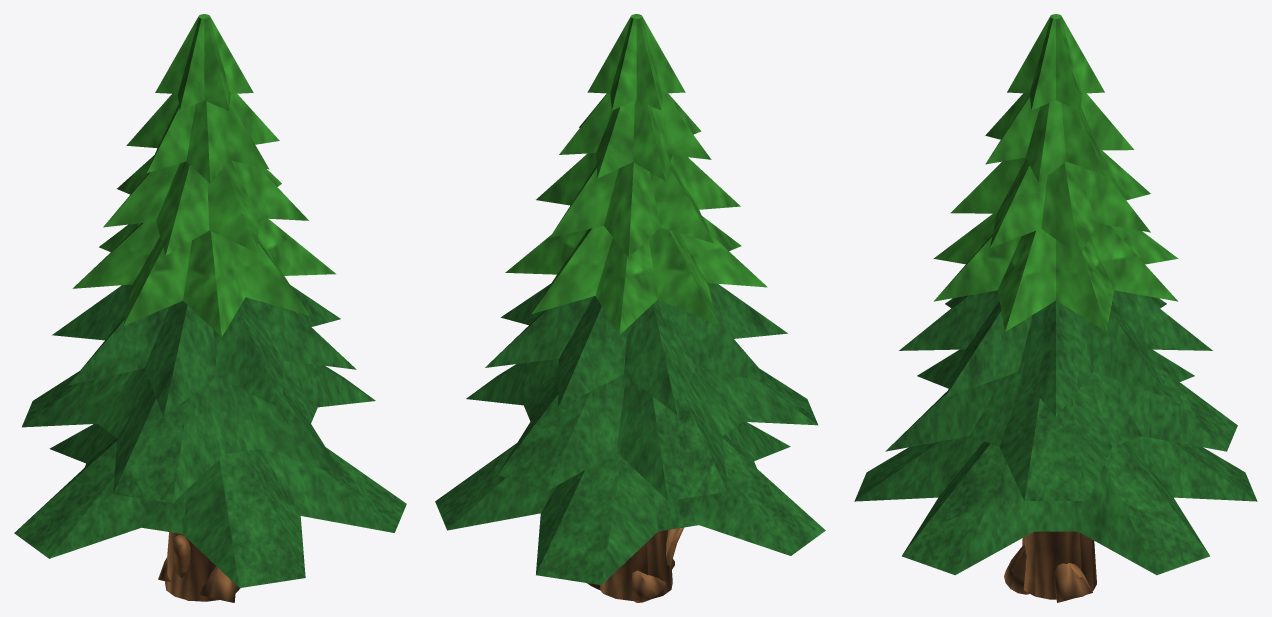
File: env_tree_pine.glb
3 renders of one model, left to right at view 1: azimuth 30°, elevation 25°; view 2: azimuth 150°, elevation 25°; view 3: azimuth 270°, elevation 25°, orthographic.
Visible parts, largest first — view 1: env_tree_pine; view 2: env_tree_pine; view 3: env_tree_pine.
Boxes of the visible parts, x1,y1,x2,y2 form: env_tree_pine: (14,14,406,602); env_tree_pine: (435,14,825,602); env_tree_pine: (854,14,1257,602).
Size of the model in its own units: 1.78 by 2.99 by 1.9.
Materials: 4 (4 with a texture image).
